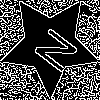N: (25, 19, 80, 76)
